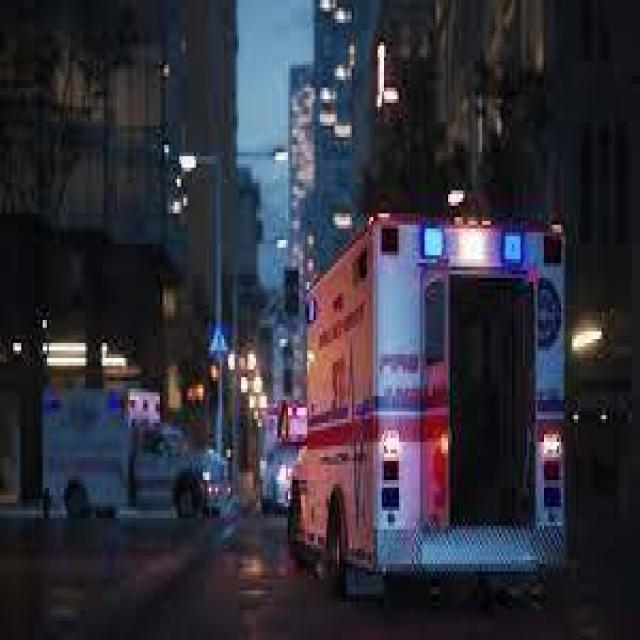ambulance: (286, 203, 572, 587)
